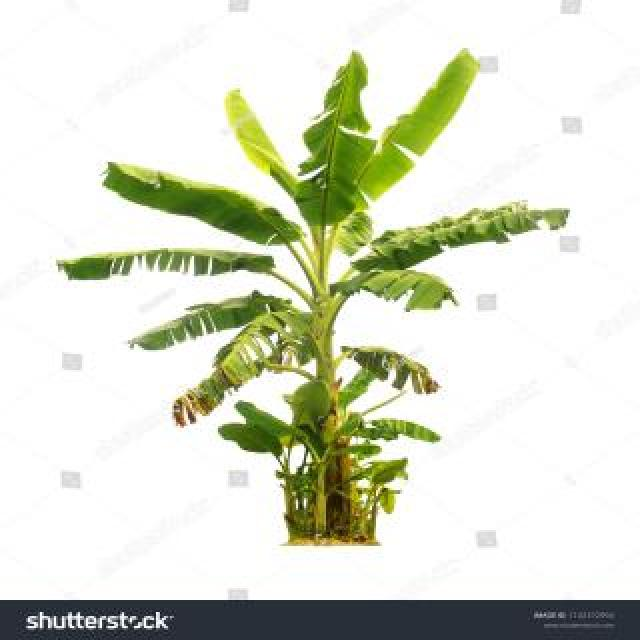Pisang: (53, 53, 571, 544)
